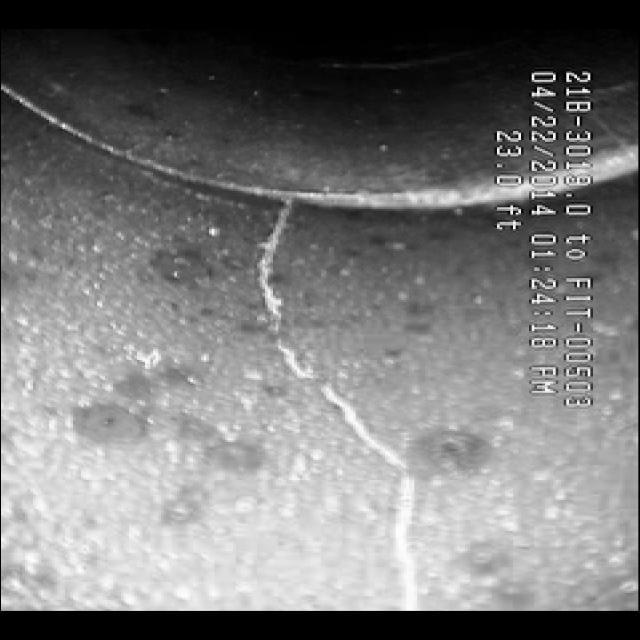Crack: (210, 211, 442, 579)
